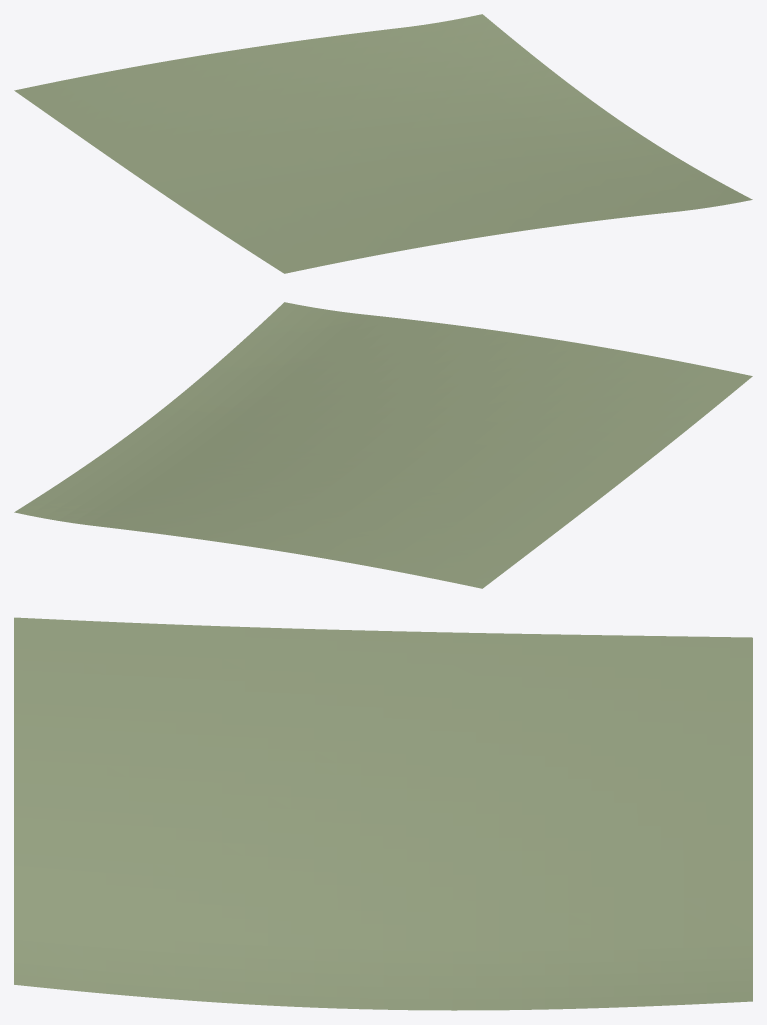
The model's file is expanse-23-10.glb.
3 views of the same model, one above another, from view 1: azimuth 30°, elevation 25°; view 2: azimuth 150°, elevation 25°; view 3: azimuth 270°, elevation 25° (orthographic). The views are drawn at different scales.
Visible parts, largest first — view 1: expanse-23-10; view 2: expanse-23-10; view 3: expanse-23-10.
Boxes of the visible parts, bbox=[...] form: expanse-23-10: bbox=[14, 14, 752, 273]; expanse-23-10: bbox=[14, 302, 752, 588]; expanse-23-10: bbox=[14, 617, 752, 1010].
Bounding box in the file's own units: 256 × 30.85 × 256.
